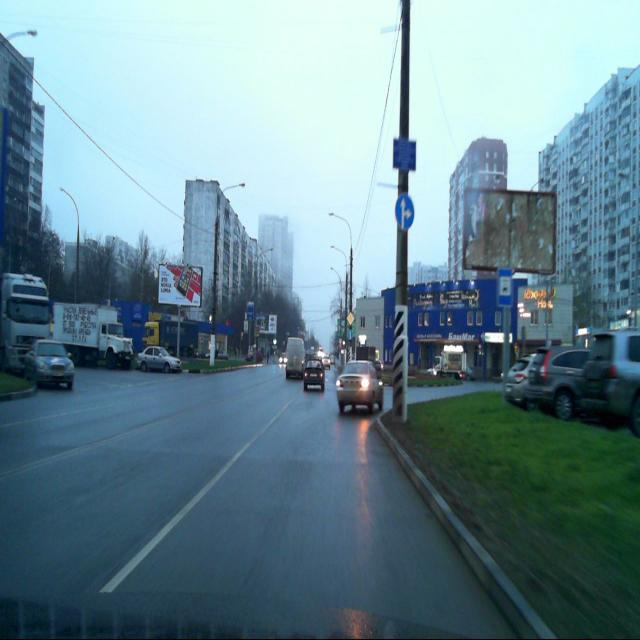road sign: (497, 268, 512, 308)
